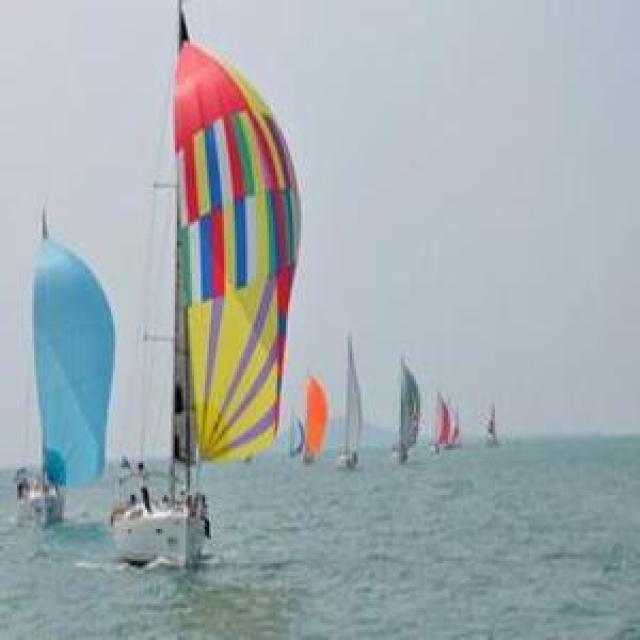sailboat: (88, 69, 308, 587), (12, 200, 115, 544), (319, 330, 375, 460), (284, 356, 330, 459), (386, 352, 425, 473), (440, 382, 473, 450)
